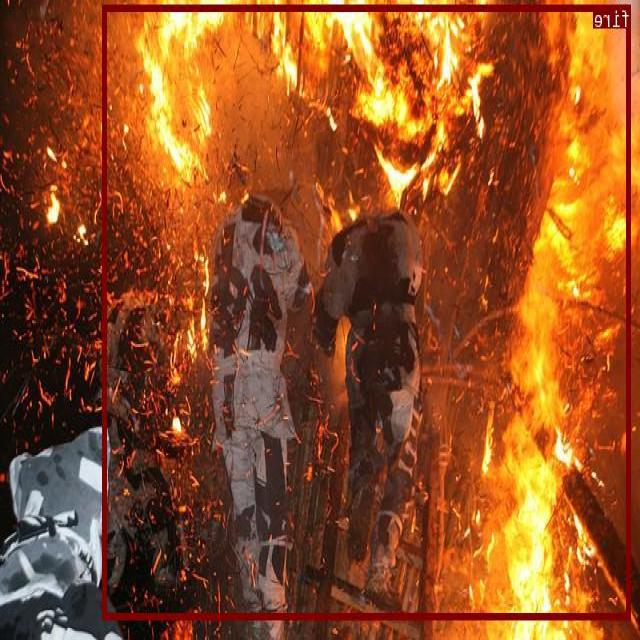fire: (103, 3, 632, 618)
